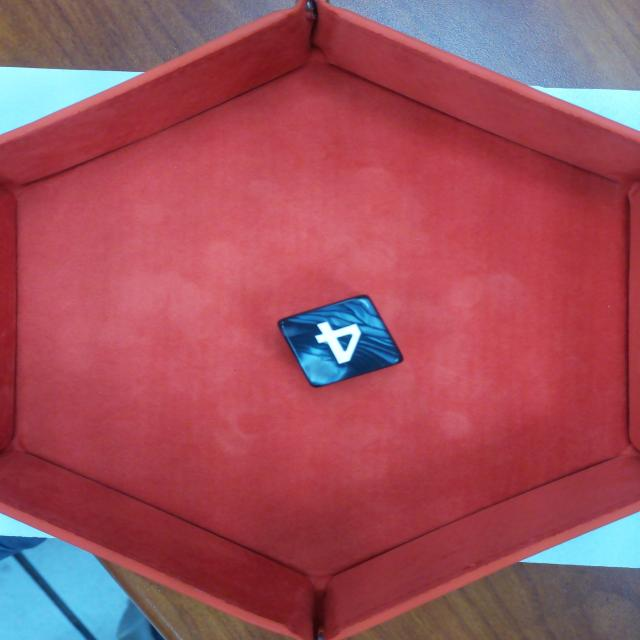dice: (276, 290, 409, 391)
